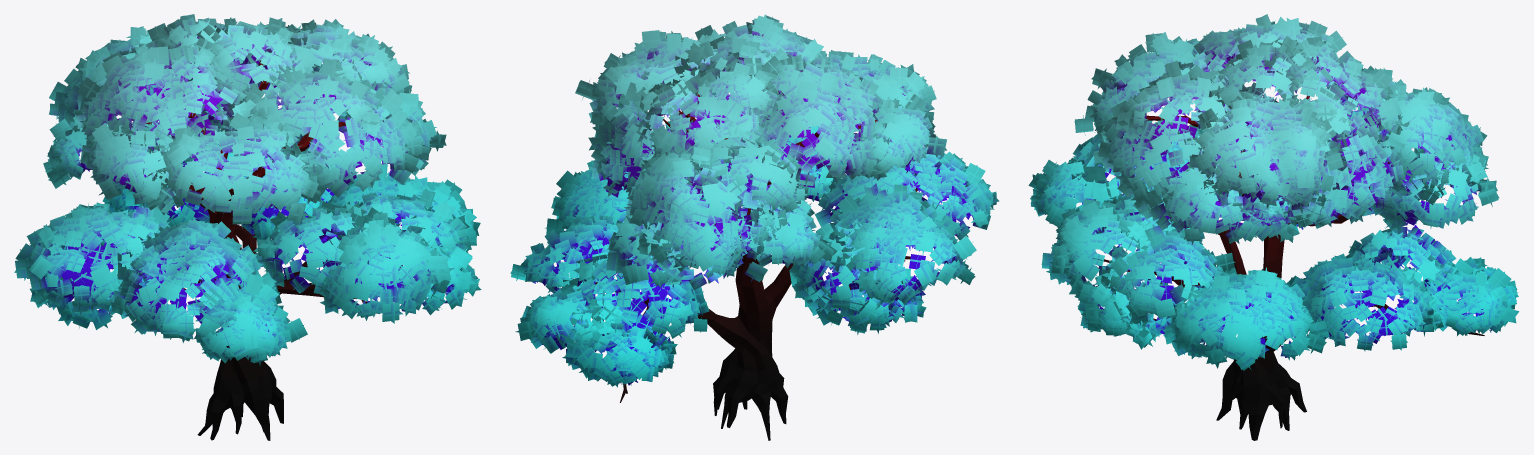
Rendered from SM_Env_Tree_Meadow_01.FBX.
3 renders of one model, left to right at view 1: azimuth 30°, elevation 25°; view 2: azimuth 150°, elevation 25°; view 3: azimuth 270°, elevation 25°, orthographic. The views are drawn at different scales.
Visible parts, largest first — view 1: SM_Env_Tree_Meadow_01; view 2: SM_Env_Tree_Meadow_01; view 3: SM_Env_Tree_Meadow_01.
Part boxes in pixels (x1=…): SM_Env_Tree_Meadow_01: x1=14, y1=14, x2=481, y2=440; SM_Env_Tree_Meadow_01: x1=510, y1=14, x2=999, y2=440; SM_Env_Tree_Meadow_01: x1=1028, y1=14, x2=1519, y2=440.
Size of the model in its own units: 1689 by 1729 by 1494.
